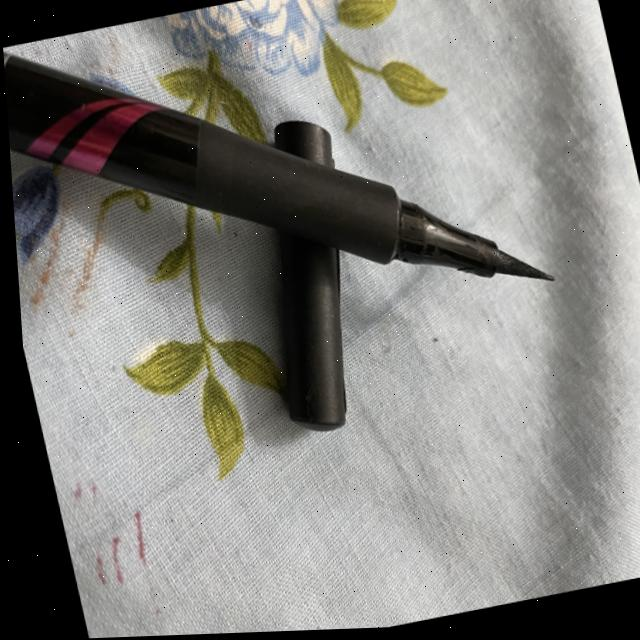eye liner: (0, 0, 574, 427)
